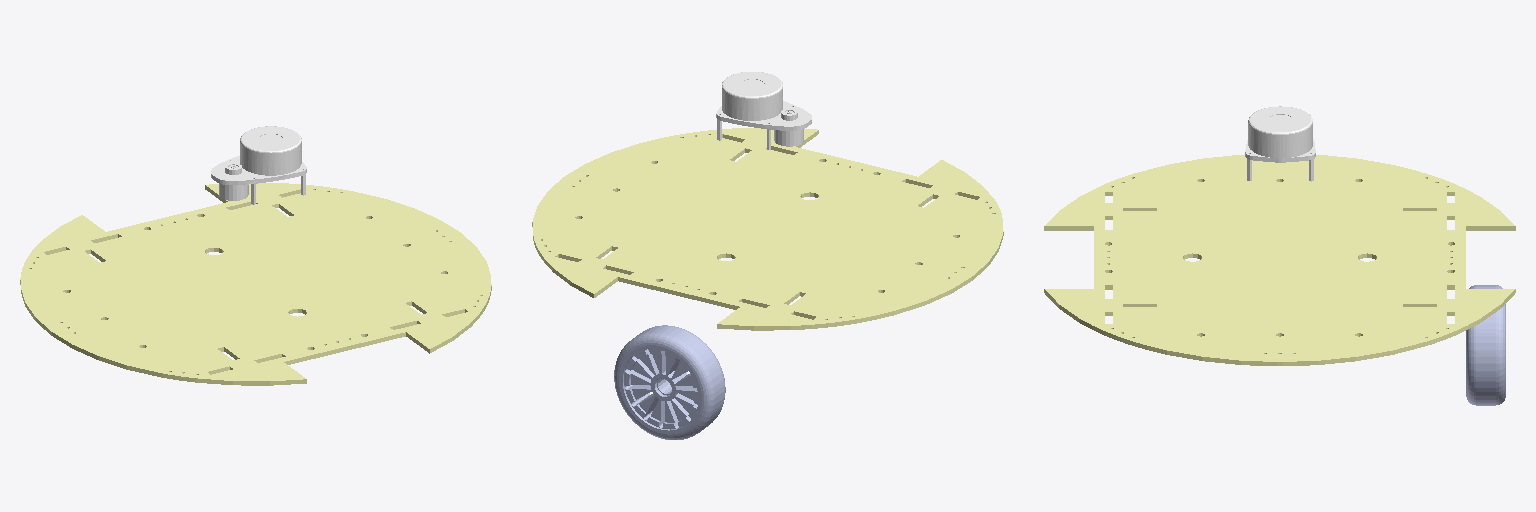
The robot description file, URDF, robot "Urdf_sandee_v1":
<?xml version="1.0" encoding="utf-8"?>
<!-- This URDF was automatically created by SolidWorks to URDF Exporter! Originally created by [author] ([email redacted]) 
     Commit Version: 1.6.0-1-g15f4949  Build Version: 1.6.7594.29634
     For more information, please see http://wiki.ros.org/sw_urdf_exporter -->
<robot
  name="Urdf_sandee_v1">
  <link
    name="base_link">
    <inertial>
      <origin
        xyz="0 4.85722573273506E-17 -0.0025"
        rpy="0 0 0" />
      <mass
        value="0.872113759173738" />
      <inertia
        ixx="0.0107089276130226"
        ixy="1.12134806058133E-18"
        ixz="-1.35549473448188E-20"
        iyy="0.0148850021753526"
        iyz="1.41548072706313E-20"
        izz="0.0255902959810454" />
    </inertial>
    <visual>
      <origin
        xyz="0 0 0"
        rpy="0 0 0" />
      <geometry>
        <mesh
          filename="package://Urdf_sandee_v1/meshes/base_link.STL" />
      </geometry>
      <material
        name="">
        <color
          rgba="1 1 0.752941176470588 1" />
      </material>
    </visual>
    <collision>
      <origin
        xyz="0 0 0"
        rpy="0 0 0" />
      <geometry>
        <mesh
          filename="package://Urdf_sandee_v1/meshes/base_link.STL" />
      </geometry>
    </collision>
  </link>
  <link
    name="R_Wheel_Link">
    <inertial>
      <origin
        xyz="2.2289E-07 1.7015E-07 0"
        rpy="0 0 0" />
      <mass
        value="0.30963" />
      <inertia
        ixx="0.00037008"
        ixy="8.516E-10"
        ixz="-3.7187E-19"
        iyy="0.00037008"
        iyz="-2.0373E-19"
        izz="0.00067839" />
    </inertial>
    <visual>
      <origin
        xyz="0 0 0"
        rpy="0 0 0" />
      <geometry>
        <mesh
          filename="package://Urdf_sandee_v1/meshes/R_Wheel_Link.STL" />
      </geometry>
      <material
        name="">
        <color
          rgba="0.79216 0.81961 0.93333 1" />
      </material>
    </visual>
    <collision>
      <origin
        xyz="0 0 0"
        rpy="0 0 0" />
      <geometry>
        <mesh
          filename="package://Urdf_sandee_v1/meshes/R_Wheel_Link.STL" />
      </geometry>
    </collision>
  </link>
  <joint
    name="R_Wheel"
    type="revolute">
    <origin
      xyz="-0.00039528 0.20871 -0.098154"
      rpy="1.5708 0 3.1416" />
    <parent
      link="base_link" />
    <child
      link="R_Wheel_Link" />
    <axis
      xyz="0 0 -1" />
    <limit
      lower="-3.14"
      upper="3.14"
      effort="100.0"
      velocity="100.0" />
  </joint>
  <link
    name="L_Wheel_Link">
    <inertial>
      <origin
        xyz="2.2289E-07 1.7015E-07 -5.5511E-17"
        rpy="0 0 0" />
      <mass
        value="0.30963" />
      <inertia
        ixx="0.00037008"
        ixy="8.516E-10"
        ixz="-6.0084E-20"
        iyy="0.00037008"
        iyz="-8.4241E-20"
        izz="0.00067839" />
    </inertial>
    <visual>
      <origin
        xyz="0 0 0"
        rpy="0 0 0" />
      <geometry>
        <mesh
          filename="package://Urdf_sandee_v1/meshes/L_Wheel_Link.STL" />
      </geometry>
      <material
        name="">
        <color
          rgba="0.79216 0.81961 0.93333 1" />
      </material>
    </visual>
    <collision>
      <origin
        xyz="0 0 0"
        rpy="0 0 0" />
      <geometry>
        <mesh
          filename="package://Urdf_sandee_v1/meshes/L_Wheel_Link.STL" />
      </geometry>
    </collision>
  </link>
  <joint
    name="L_Wheel"
    type="revolute">
    <origin
      xyz="-0.00039528 -0.21234 -0.098154"
      rpy="1.5708 0 0" />
    <parent
      link="base_link" />
    <child
      link="L_Wheel_Link" />
    <axis
      xyz="0 0 -1" />
    <limit
      lower="-3.14"
      upper="3.14"
      effort="100.0"
      velocity="100.0" />
  </joint>        
  <link
    name="Ridar_Link">
    <inertial>
      <origin
        xyz="0 0 0"
        rpy="0 0 0" />
      <mass
        value="0" />
      <inertia
        ixx="0"
        ixy="0"
        ixz="0"
        iyy="0"
        iyz="0"
        izz="0" />
    </inertial>
    <visual>
      <origin
        xyz="0 0 0"
        rpy="0 0 0" />
      <geometry>
        <mesh
          filename="package://Urdf_sandee_v1/meshes/Ridar_Link.STL" />
      </geometry>
      <material
        name="">
        <color
          rgba="1 1 1 1" />
      </material>
    </visual>
    <collision>
      <origin
        xyz="0 0 0"
        rpy="0 0 0" />
      <geometry>
        <mesh
          filename="package://Urdf_sandee_v1/meshes/Ridar_Link.STL" />
      </geometry>
    </collision>
  </link>
  <joint
    name="Ridar"
    type="fixed">
    <origin
      xyz="0.018687 0.00068281 0.14802"
      rpy="0 0 0" />
    <parent
      link="base_link" />
    <child
      link="Ridar_Link" />
    <axis
      xyz="0 0 0" />
  </joint>
</robot>

--- Render facts (derived) ---
Views: 3 orthographic renders of the robot side by side, from view 1: azimuth 30°, elevation 25°; view 2: azimuth 150°, elevation 25°; view 3: azimuth 270°, elevation 25°.
Robot: Urdf_sandee_v1 — 4 links, 3 joints (2 revolute, 1 fixed); root link base_link; default pose: all joints at 0.
Links seen in each view (by area): view 1: base_link, Ridar_Link; view 2: base_link, R_Wheel_Link, Ridar_Link; view 3: base_link, Ridar_Link, R_Wheel_Link.
Boxes of the visible links, x1,y1,x2,y2 form: base_link: (20,183,491,385); Ridar_Link: (211,126,306,204); base_link: (532,128,1003,330); R_Wheel_Link: (614,325,725,439); Ridar_Link: (716,72,811,149); base_link: (1044,155,1515,365); Ridar_Link: (1245,106,1315,181); R_Wheel_Link: (1466,285,1505,405).
Size in the robot's own frame: 0.5 by 0.477 by 0.3221 metres.
3 mesh visuals loaded from 4 distinct referenced files (3 binary STL); not drawn: 1 (reference not matched to a file when rendering).
